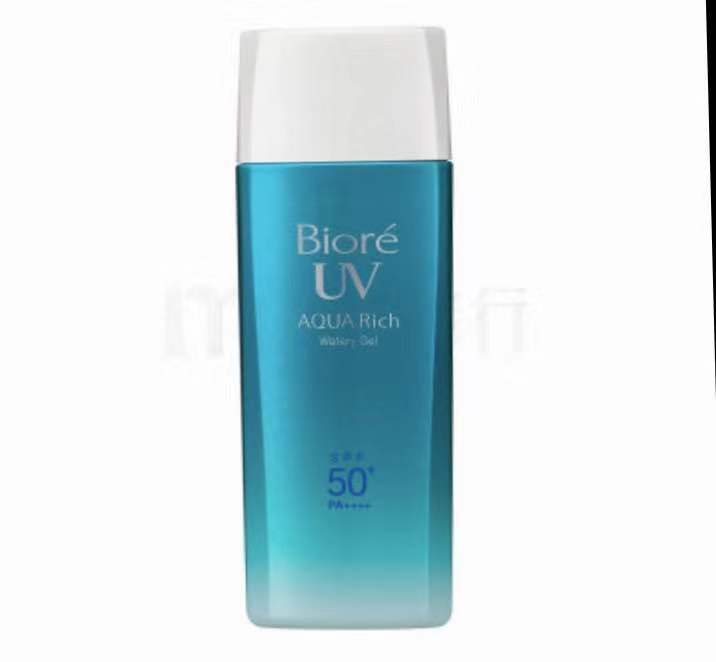cosmetic: (224, 21, 463, 630)
